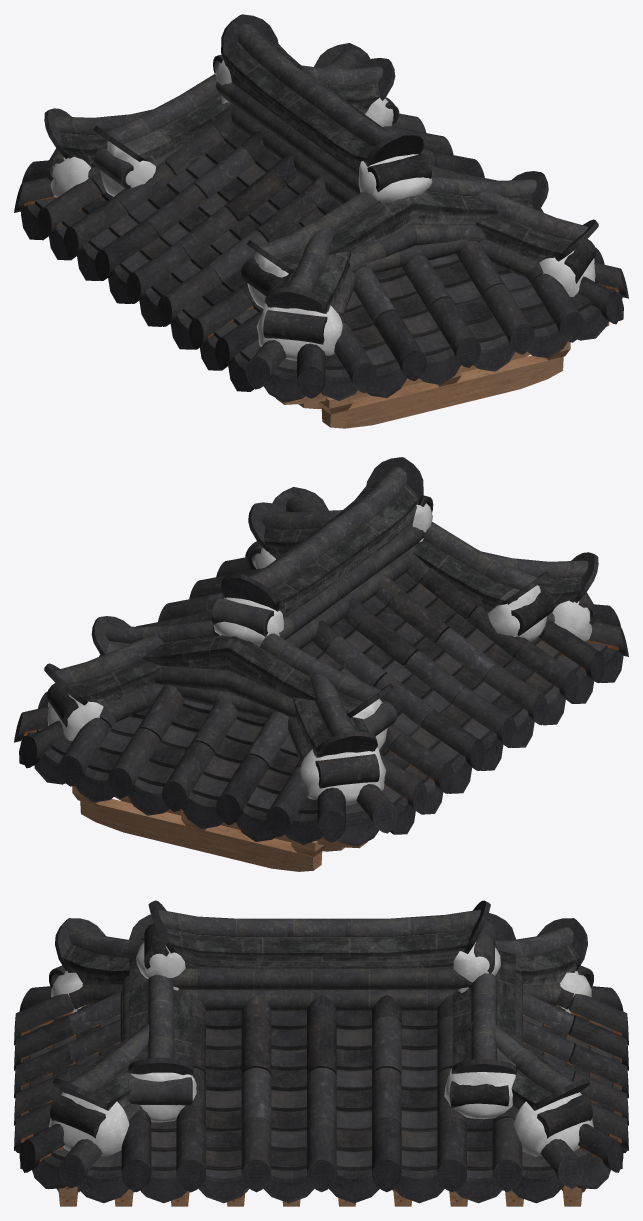
The model's file is SM_JSH_HG_RoofB.fbx.
The picture shows the model from 3 angles, top to bottom: view 1: azimuth 30°, elevation 25°; view 2: azimuth 150°, elevation 25°; view 3: azimuth 270°, elevation 25°; orthographic projection. The views are drawn at different scales.
Visible parts, largest first — view 1: SM_JSH_HG_RoofB; view 2: SM_JSH_HG_RoofB; view 3: SM_JSH_HG_RoofB.
Boxes of the visible parts, bbox=[...] form: SM_JSH_HG_RoofB: bbox=[14, 14, 628, 428]; SM_JSH_HG_RoofB: bbox=[14, 457, 628, 871]; SM_JSH_HG_RoofB: bbox=[14, 900, 628, 1206].
Size of the model in its own units: 216 by 290 by 132.
Materials: 2 (2 with a texture image).
